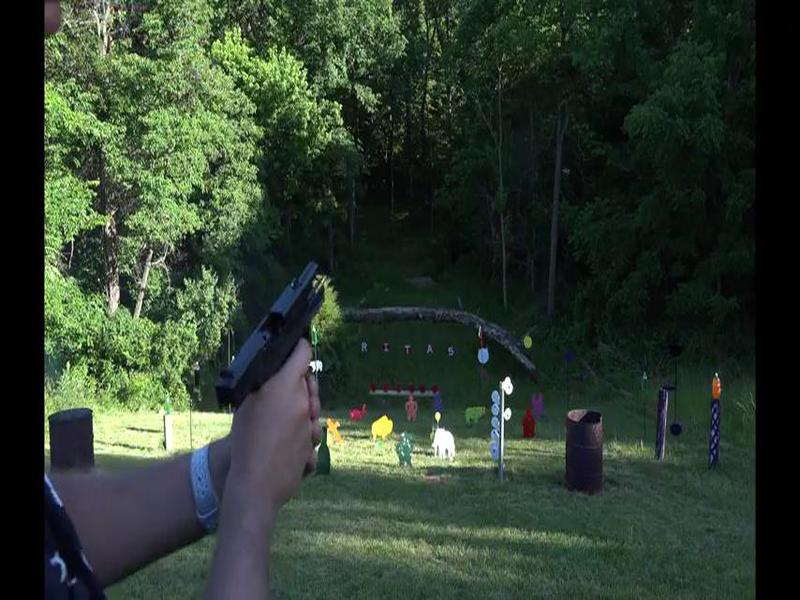Pistola: (204, 261, 342, 434)
